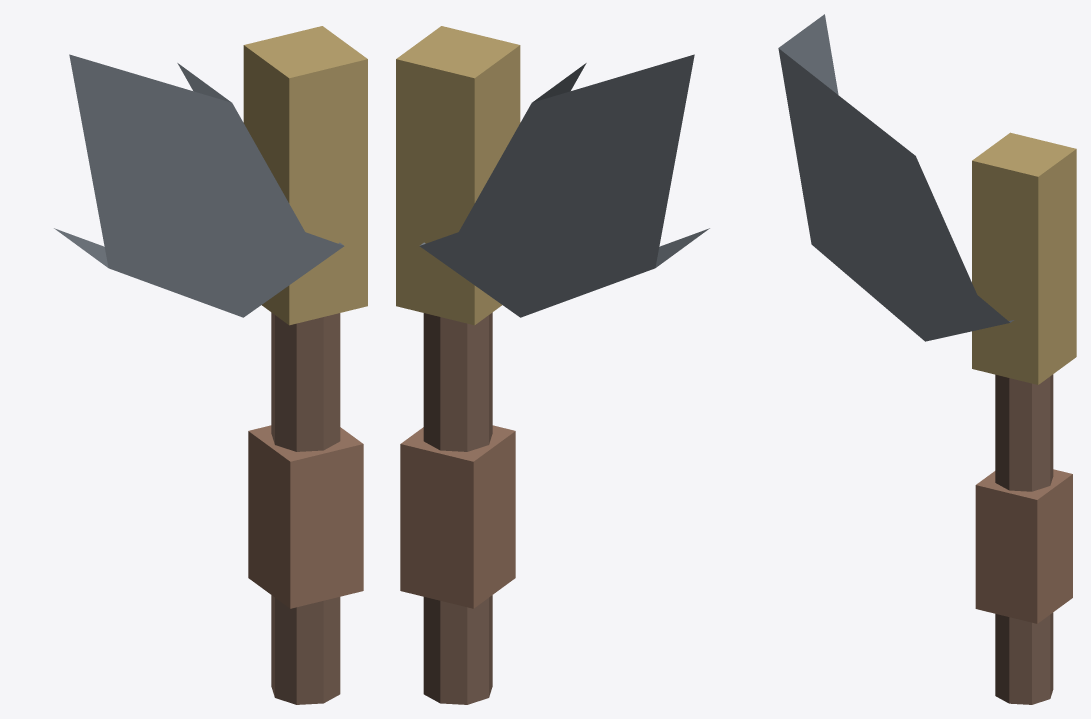
Rendered from weapon_grave_axe.glb.
3 renders of one model, left to right at view 1: azimuth 30°, elevation 25°; view 2: azimuth 150°, elevation 25°; view 3: azimuth 330°, elevation 25°, orthographic. The views are drawn at different scales.
Visible parts, largest first — view 1: axe_head, axe_neck, haft_wrap, haft; view 2: axe_head, axe_neck, haft_wrap, haft; view 3: axe_head, axe_neck, haft_wrap, haft.
Part boxes in pixels (x1=…): axe_head: x1=54, y1=54, x2=344, y2=317; axe_neck: x1=243, y1=26, x2=367, y2=325; haft_wrap: x1=248, y1=425, x2=363, y2=608; haft: x1=271, y1=312, x2=340, y2=704; axe_head: x1=419, y1=54, x2=709, y2=317; axe_neck: x1=396, y1=26, x2=520, y2=325; haft_wrap: x1=400, y1=425, x2=515, y2=608; haft: x1=423, y1=312, x2=492, y2=704; axe_head: x1=778, y1=14, x2=1013, y2=341; axe_neck: x1=972, y1=132, x2=1076, y2=384; haft_wrap: x1=975, y1=469, x2=1072, y2=623; haft: x1=995, y1=374, x2=1053, y2=704.
Size of the model in its own units: 0.54 by 1.23 by 0.17.
